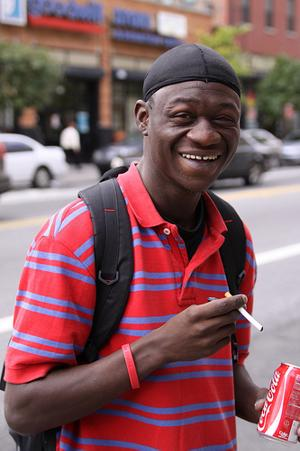person: (8, 42, 271, 449)
